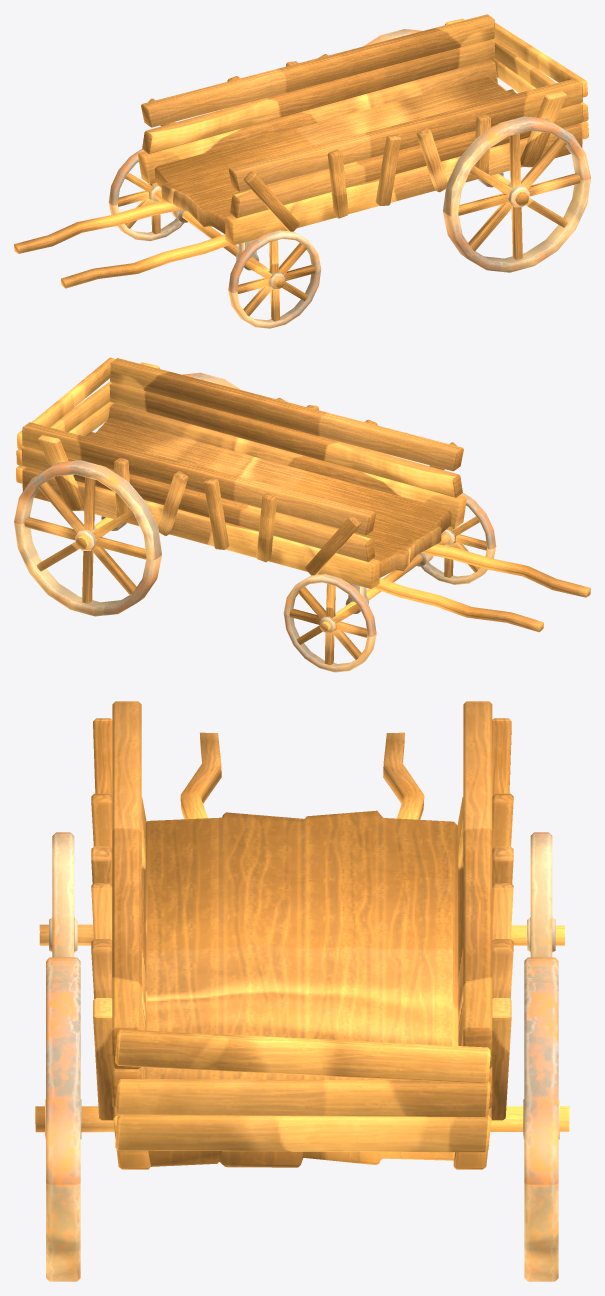
File: SM_Stylized_Wagon.fbx
The picture shows the model from 3 angles, top to bottom: view 1: azimuth 30°, elevation 25°; view 2: azimuth 150°, elevation 25°; view 3: azimuth 270°, elevation 25°; orthographic projection. The views are drawn at different scales.
Visible parts, largest first — view 1: SM_Stylized_Wagon_LOD0; view 2: SM_Stylized_Wagon_LOD0; view 3: SM_Stylized_Wagon_LOD0.
Part boxes in pixels (box(x1,y1,x2,y2)): SM_Stylized_Wagon_LOD0: box(14, 14, 590, 328); SM_Stylized_Wagon_LOD0: box(14, 357, 590, 672); SM_Stylized_Wagon_LOD0: box(35, 701, 569, 1281).
Bounding box in the file's own units: 430 × 198 × 128.
